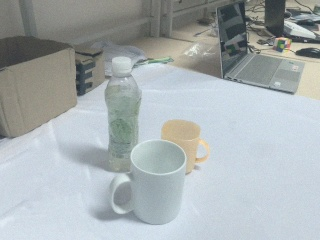bottle: (106, 58, 142, 173)
box: (1, 35, 78, 139), (74, 46, 105, 97)
cup: (109, 139, 187, 226), (161, 119, 210, 175)
mouse: (295, 48, 320, 58)
